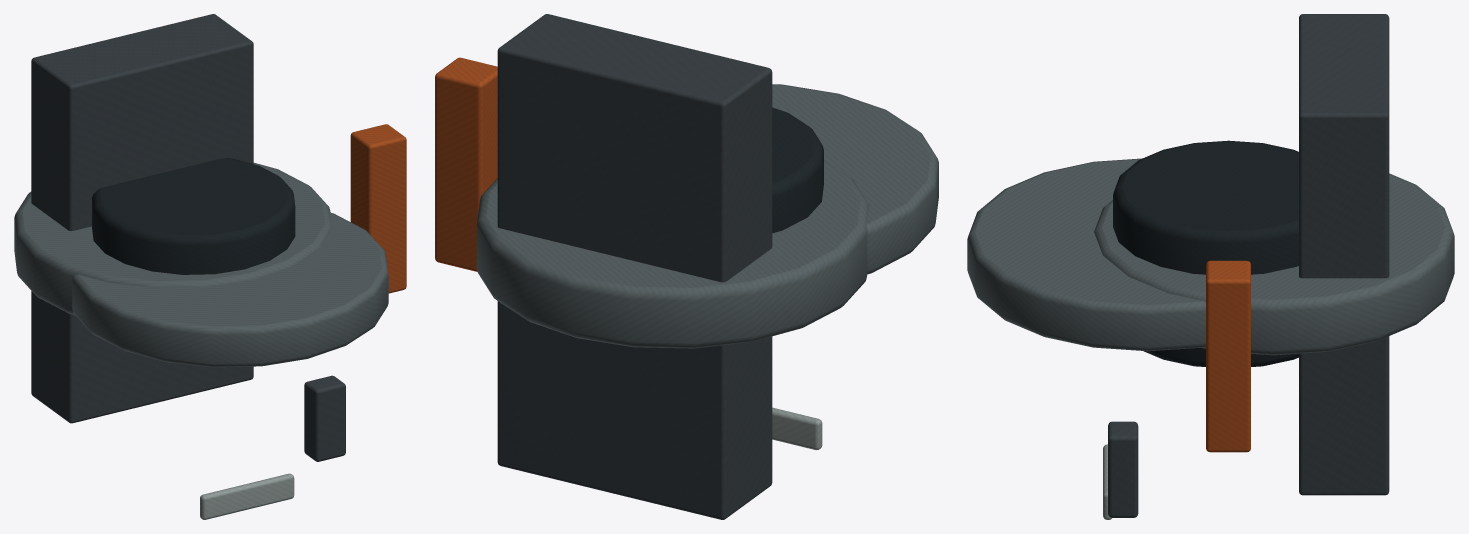
Rendered from WallCableReel.fbx.
The picture shows the model from 3 angles, left to right: view 1: azimuth 30°, elevation 25°; view 2: azimuth 150°, elevation 25°; view 3: azimuth 270°, elevation 25°; orthographic projection. The views are drawn at different scales.
Visible parts, largest first — view 1: WallCableReel_Mesh; view 2: WallCableReel_Mesh; view 3: WallCableReel_Mesh.
Part boxes in pixels (x1,y1,x2,y2): WallCableReel_Mesh: (14, 14, 406, 519); WallCableReel_Mesh: (435, 14, 938, 519); WallCableReel_Mesh: (967, 14, 1454, 519).
Size of the model in its own units: 89 by 95 by 97.
6 materials, 6 textured.
